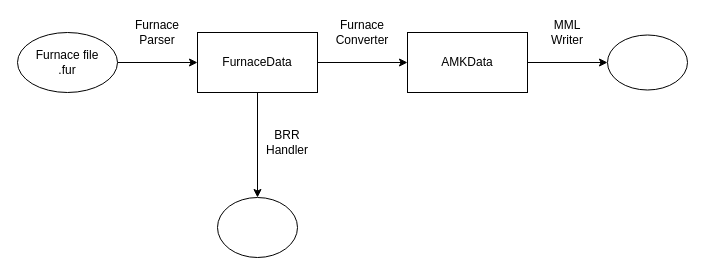
Image size: 705x275. Some labels were removed from this diagram. Each missing label, with the box of its shape:
AMK File .txt: (606, 34, 688, 90)
BRR files .brr: (216, 196, 298, 258)
